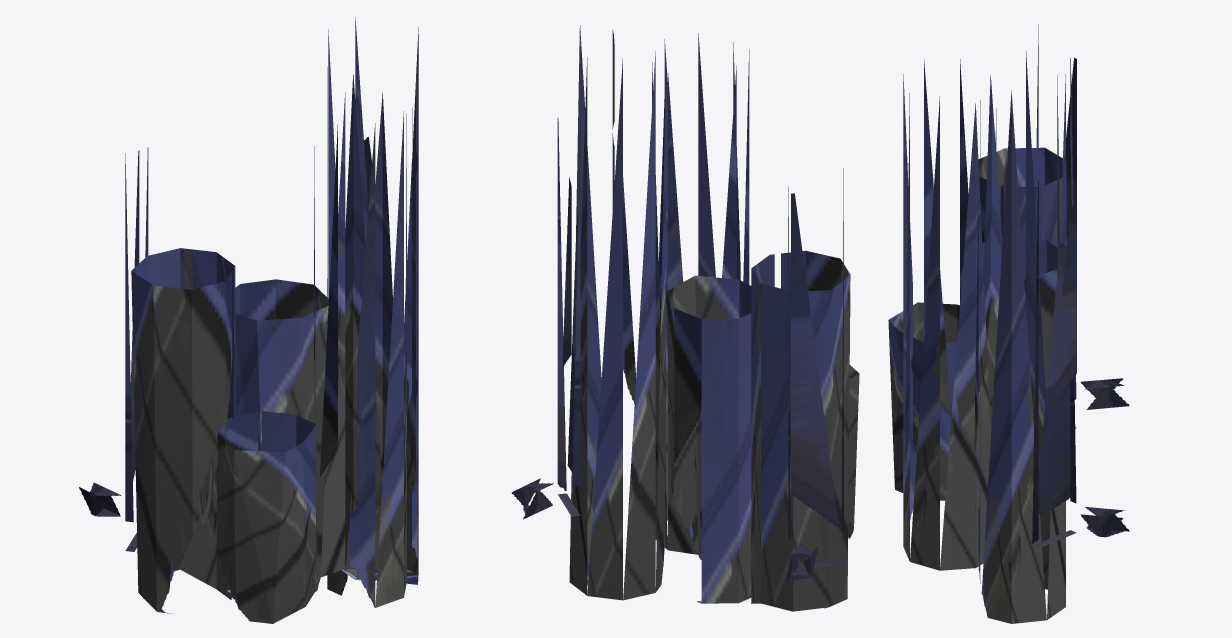
3 views of the same model, side by side, from view 1: azimuth 30°, elevation 25°; view 2: azimuth 150°, elevation 25°; view 3: azimuth 270°, elevation 25° (orthographic). The views are drawn at different scales.
Size of the model in its own units: 1.01 by 1.66 by 0.9026.
